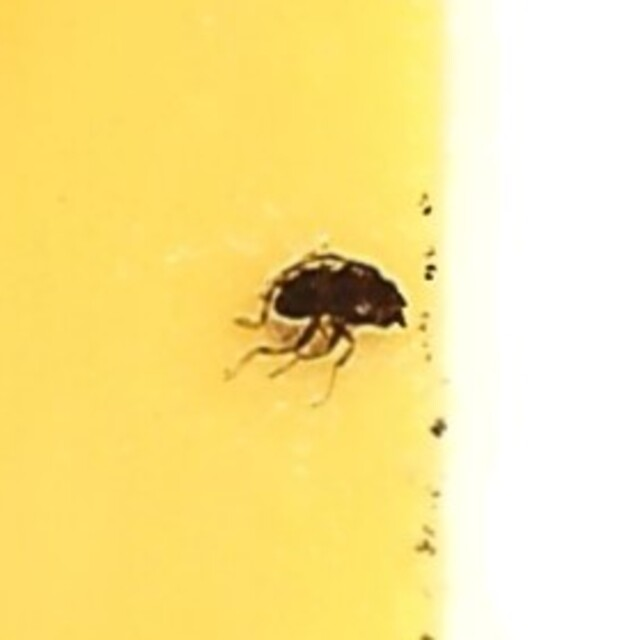Brachycera: (229, 248, 411, 392)
